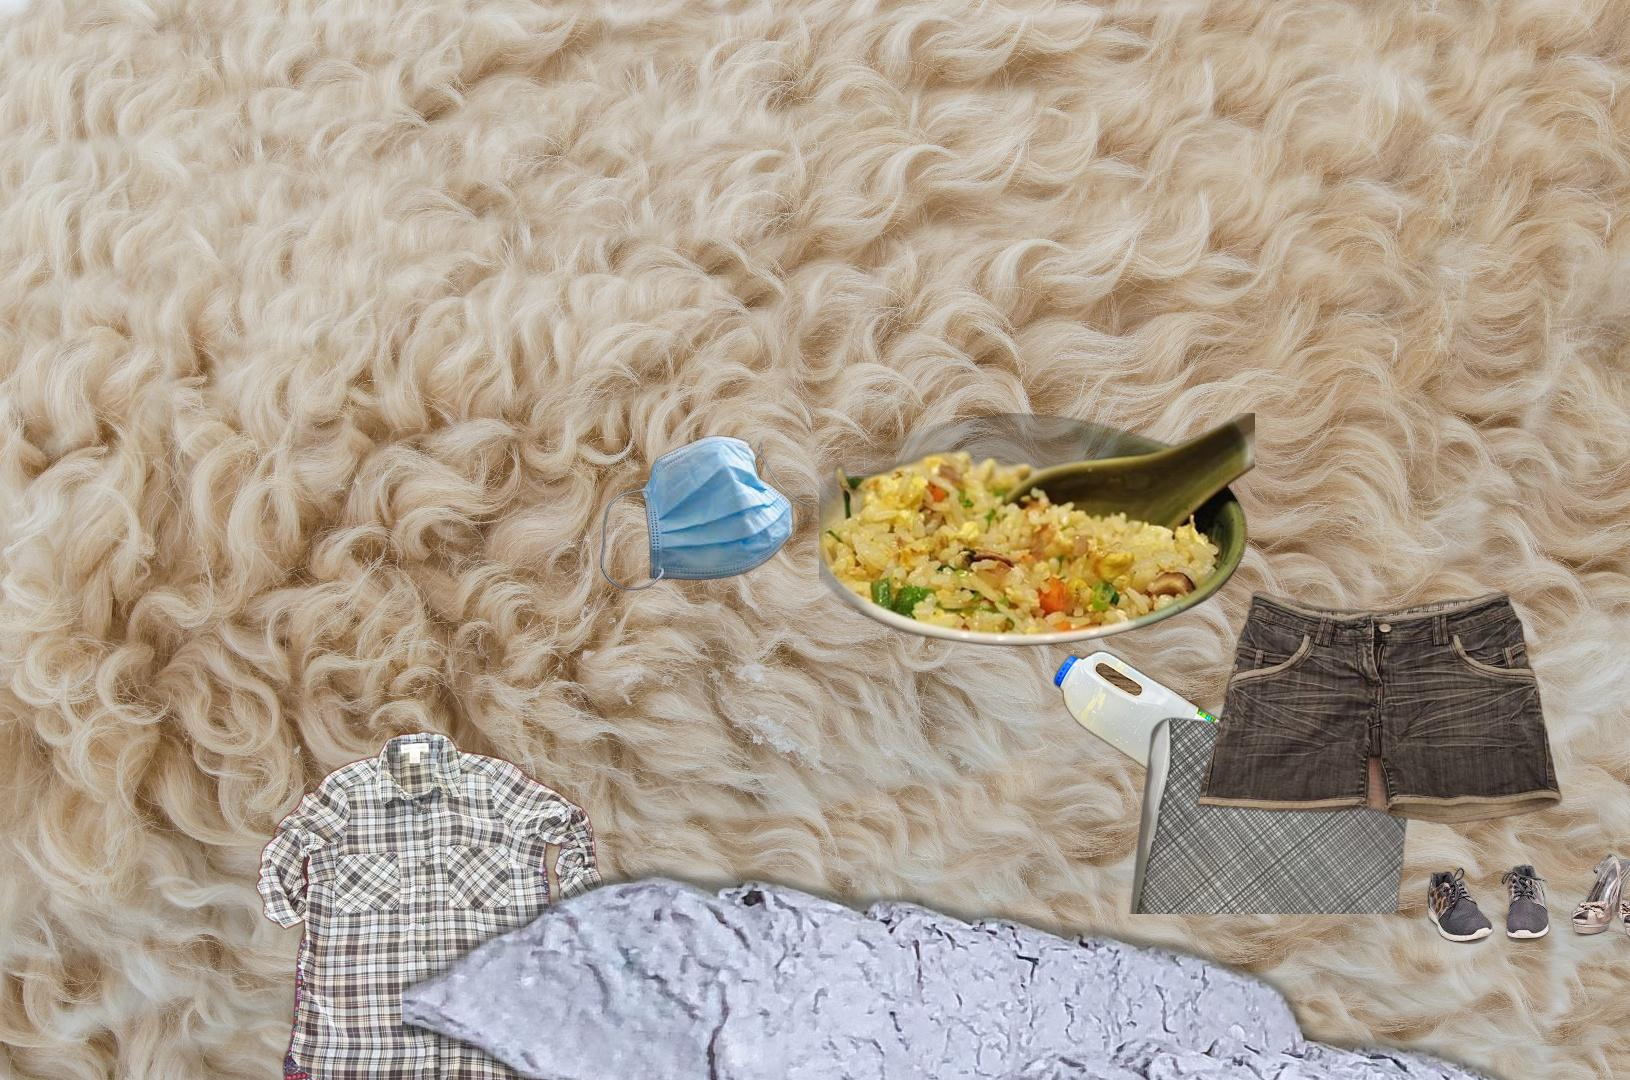biological: (819, 413, 1255, 667)
clothes: (253, 727, 607, 1080), (1191, 588, 1566, 827)
paper: (1125, 716, 1418, 914)
plastic-bottles: (1051, 615, 1265, 820)
shoes: (1425, 851, 1630, 947)
trash: (598, 433, 814, 593)
trashbox-cardboard: (402, 843, 1630, 1080)
